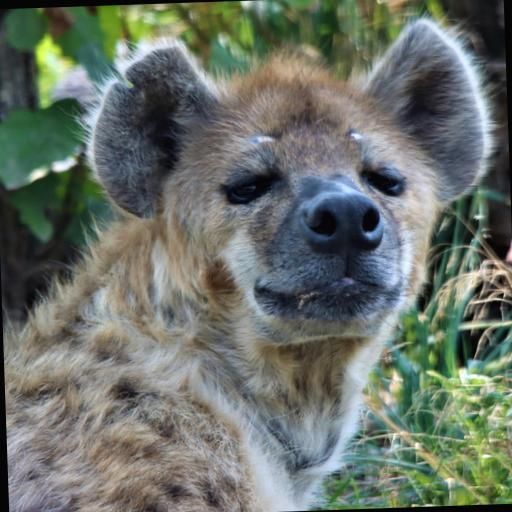hyenas: (9, 7, 512, 512)
